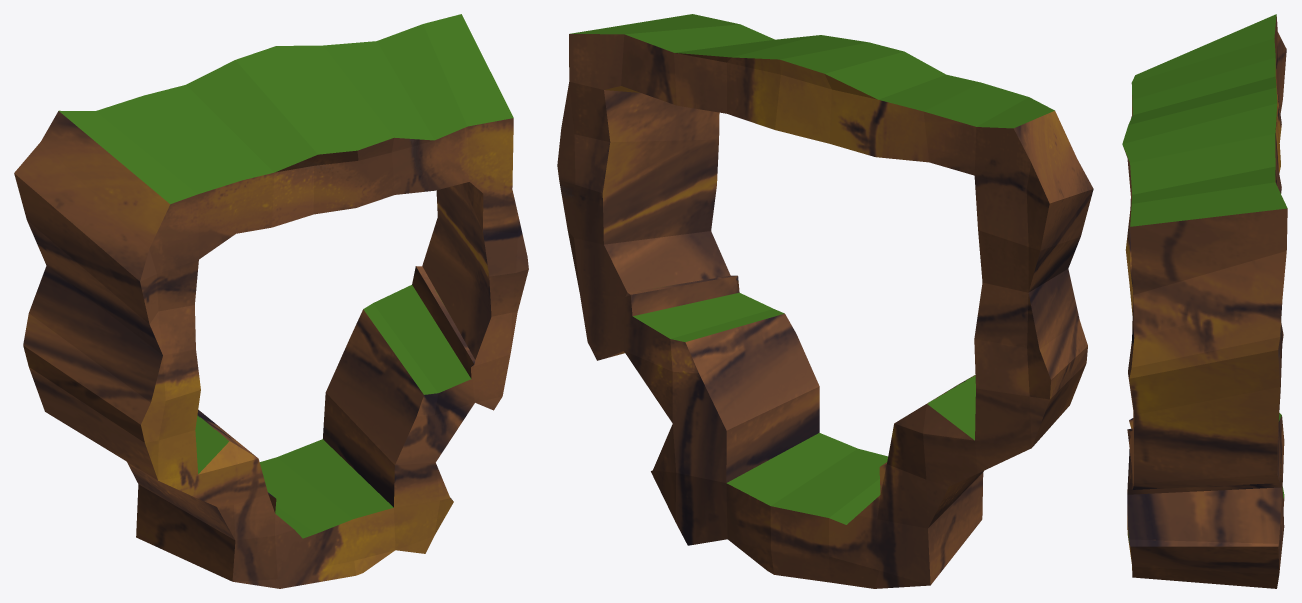
File: sali84.obj
The picture shows the model from 3 angles, left to right: view 1: azimuth 30°, elevation 25°; view 2: azimuth 150°, elevation 25°; view 3: azimuth 270°, elevation 25°; orthographic projection. The views are drawn at different scales.
Visible parts, largest first — view 1: Plane.050_Plane.054; view 2: Plane.050_Plane.054; view 3: Plane.050_Plane.054.
Boxes of the visible parts, x1,y1,x2,y2 form: Plane.050_Plane.054: (14,14,528,588); Plane.050_Plane.054: (557,14,1093,588); Plane.050_Plane.054: (1122,14,1287,588).
Size of the model in its own units: 159 by 157 by 52.27.
1 material, 1 textured.
